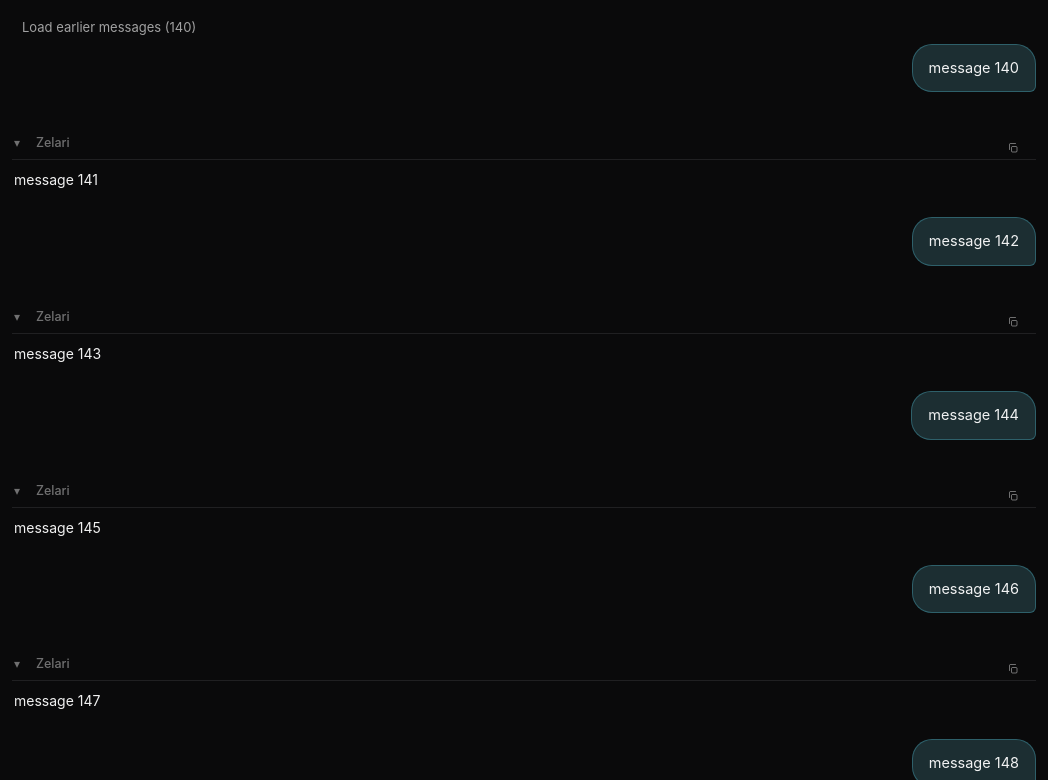
ChatList windowing › extends the window by WINDOW_SIZE when 'load earlier' is clicked
Click the button "Load earlier messages (140)" at [109, 28], box [12, 12, 206, 44]
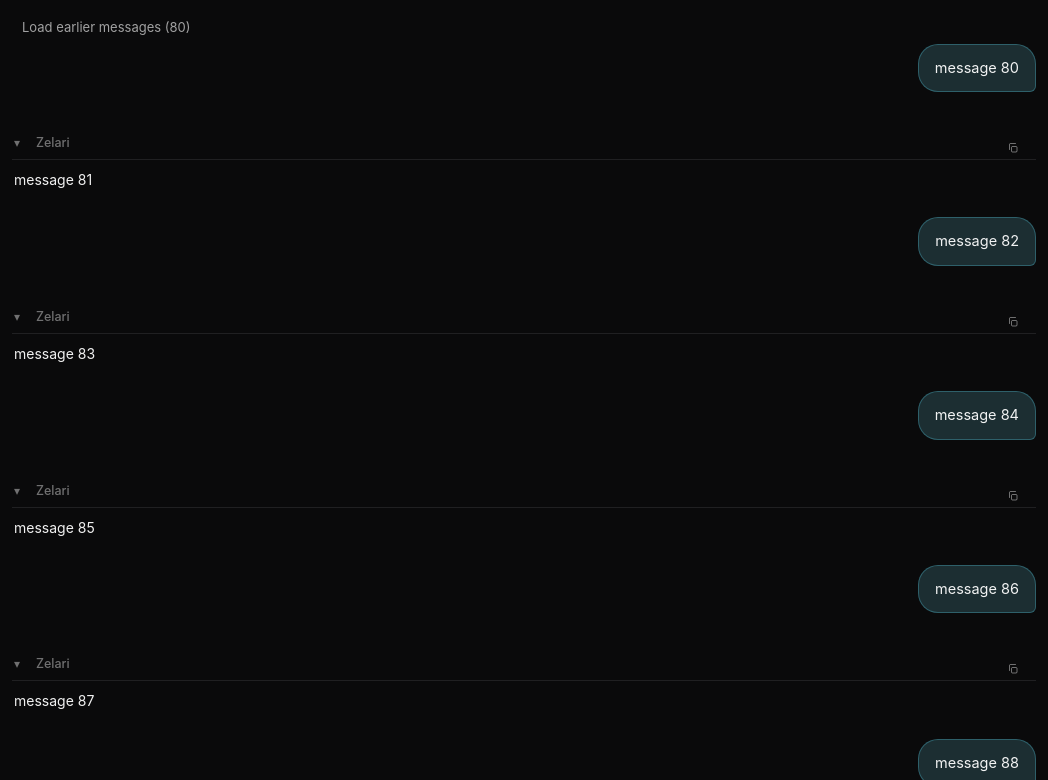
Expected: the element with class "message" reads "message 80", [935, 58, 1019, 76]
